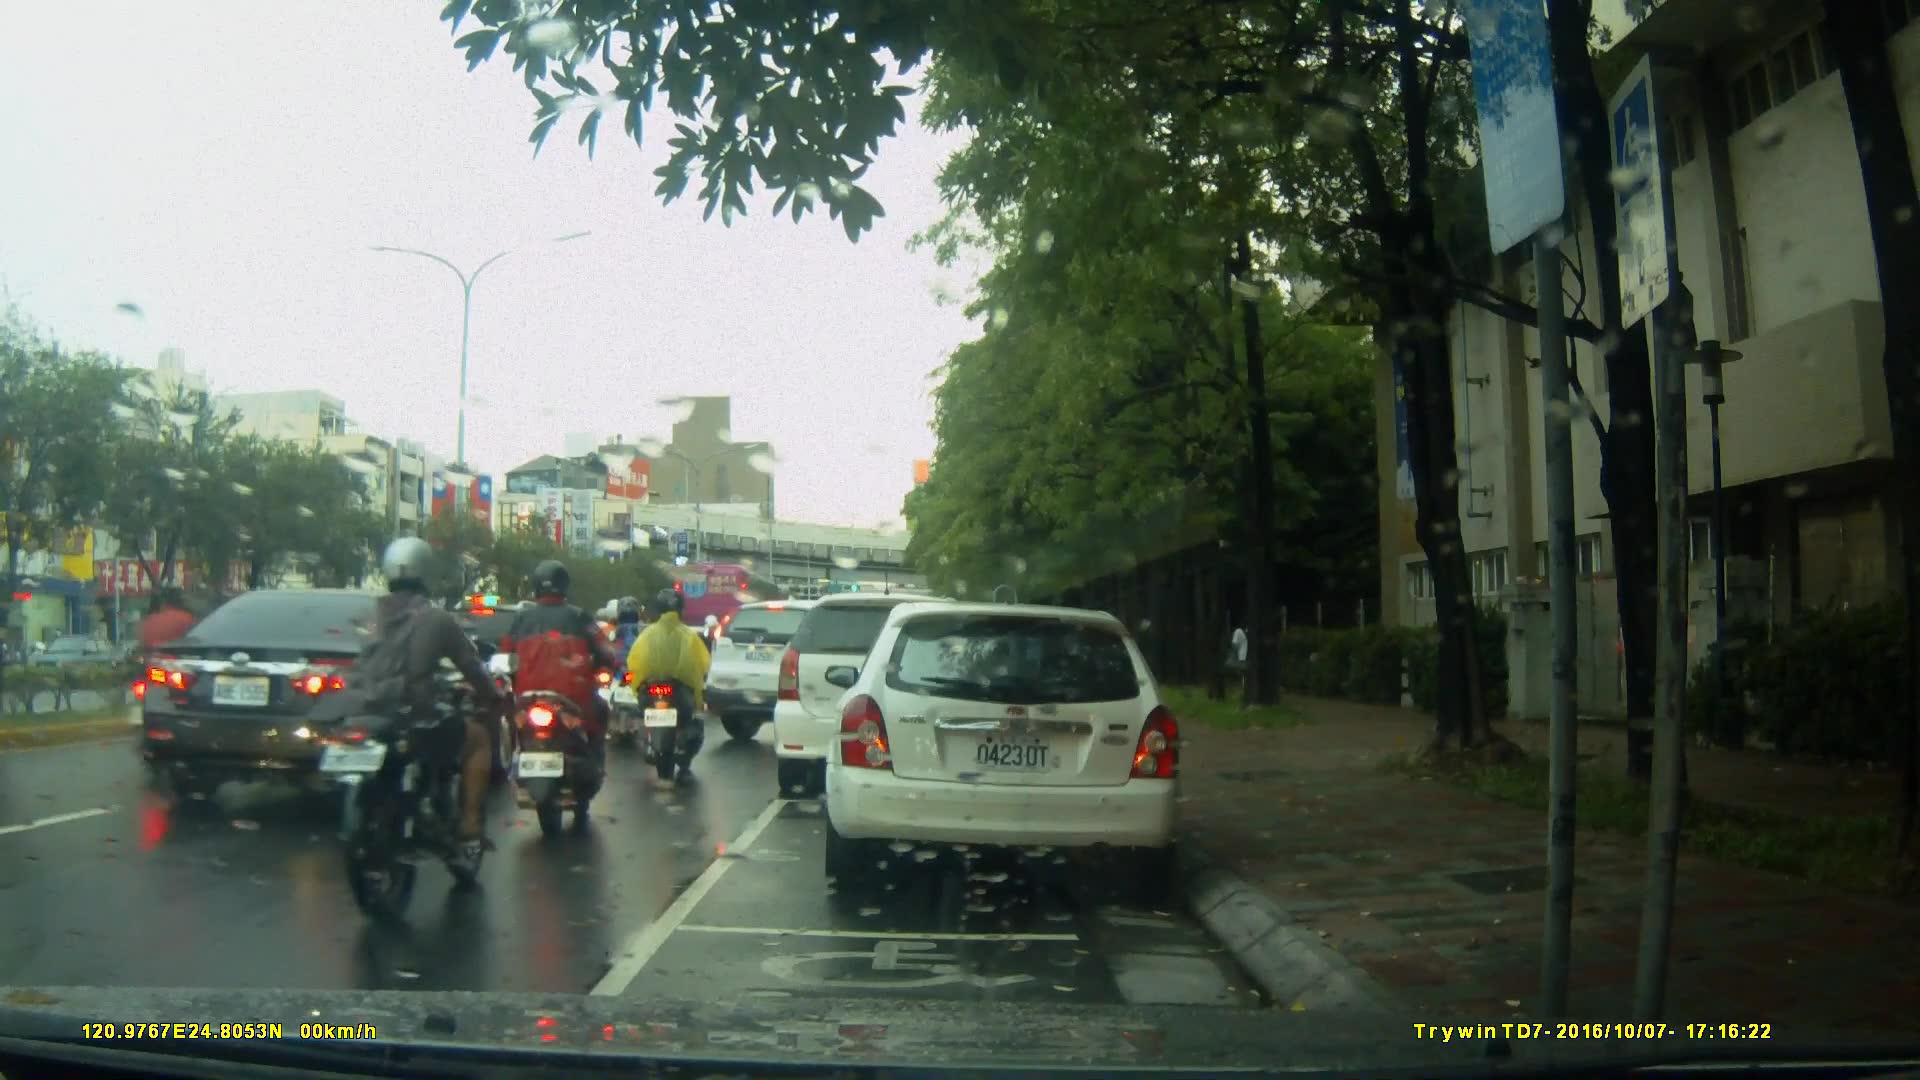rider: (297, 535, 522, 946), (502, 558, 611, 831), (131, 579, 227, 782), (623, 593, 715, 783), (605, 595, 658, 746), (586, 594, 640, 725)
vehicle: (835, 594, 1194, 898), (140, 586, 527, 814), (776, 590, 1026, 784), (701, 596, 920, 744), (670, 563, 780, 643), (22, 631, 130, 688)
